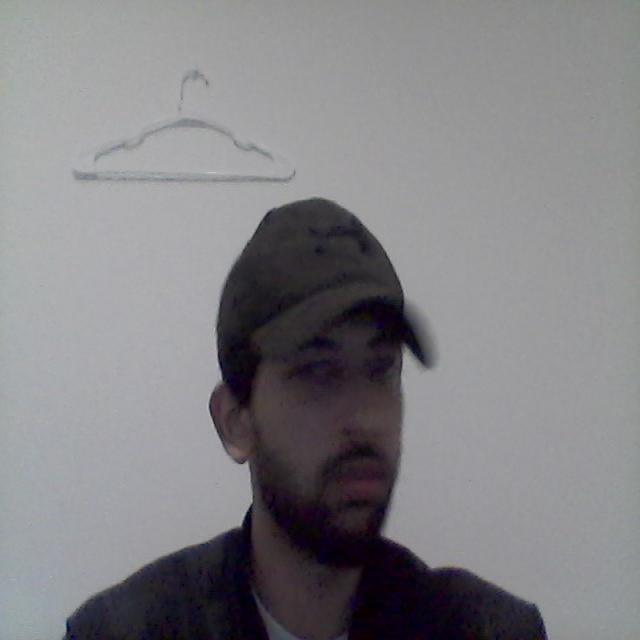cap: (184, 188, 458, 379)
